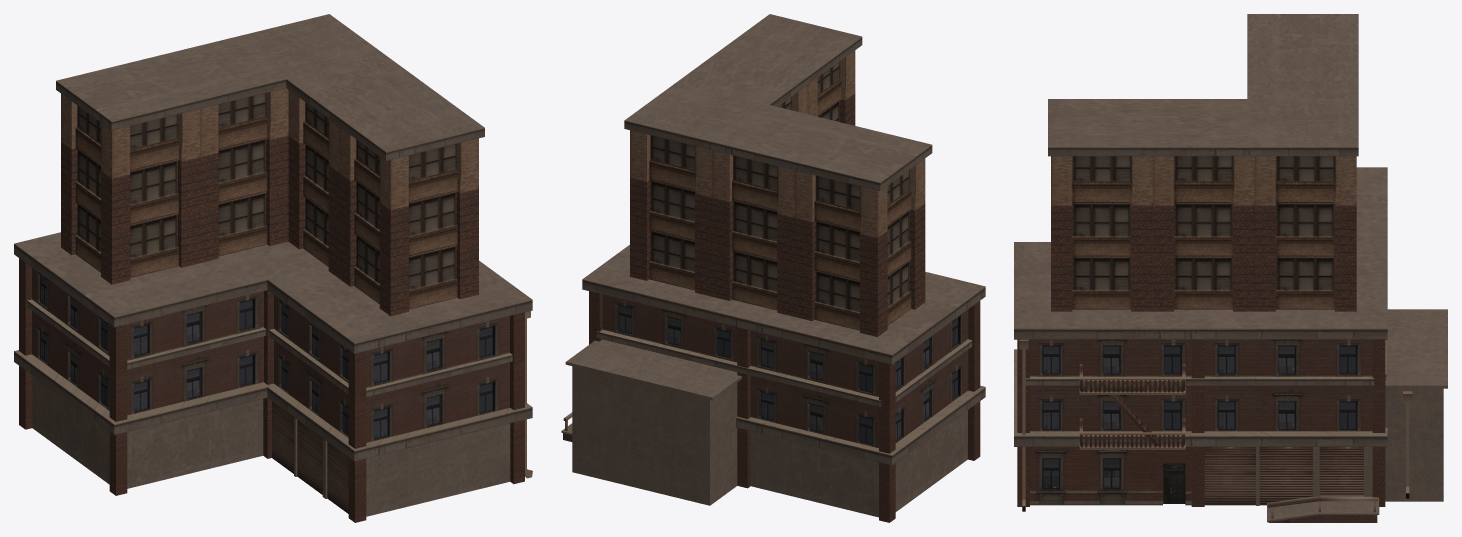
The model's file is Cyberpunk Building V8.1.fbx.
3 views of the same model, side by side, from view 1: azimuth 30°, elevation 25°; view 2: azimuth 150°, elevation 25°; view 3: azimuth 270°, elevation 25° (orthographic). The views are drawn at different scales.
Visible parts, largest first — view 1: Cyberpunk Building V8.1; view 2: Cyberpunk Building V8.1; view 3: Cyberpunk Building V8.1.
Boxes of the visible parts, bbox=[...] form: Cyberpunk Building V8.1: bbox=[14, 14, 532, 522]; Cyberpunk Building V8.1: bbox=[561, 14, 985, 522]; Cyberpunk Building V8.1: bbox=[1014, 14, 1447, 522].
Bounding box in the file's own units: 2985 × 2776 × 3135.
